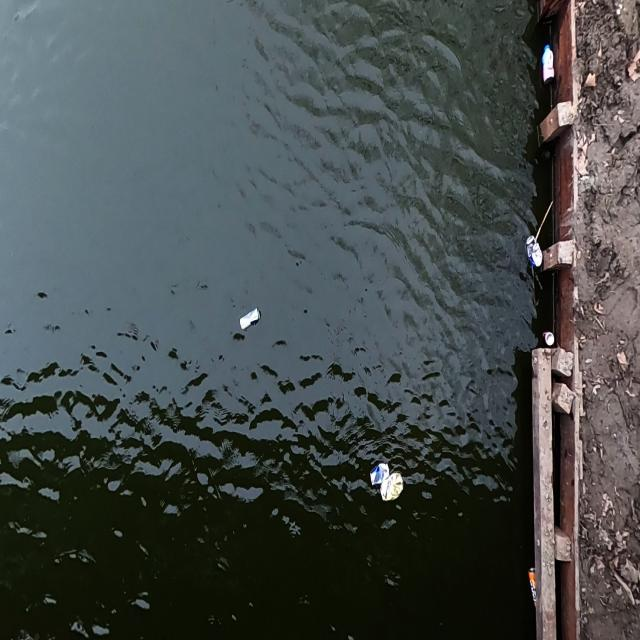Bouteille plastique: (539, 37, 559, 89)
Non plastique: (232, 298, 264, 336), (379, 473, 406, 509), (524, 226, 542, 271), (364, 458, 389, 488), (543, 327, 558, 351)
